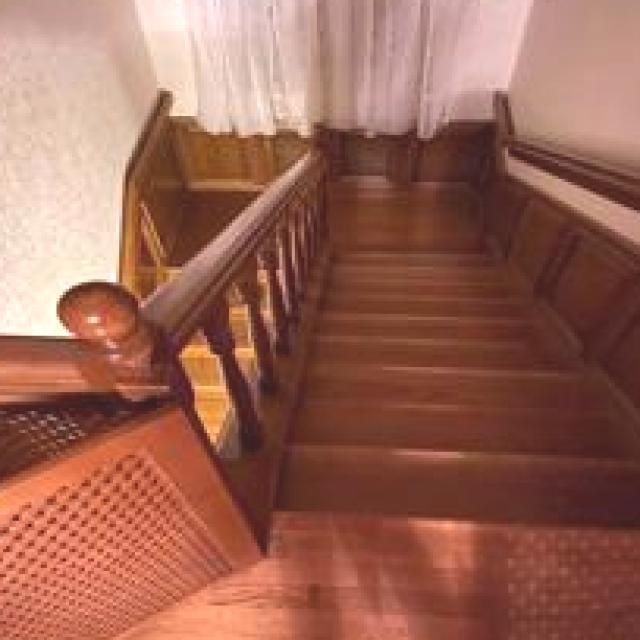downstair: (267, 302, 640, 543)
